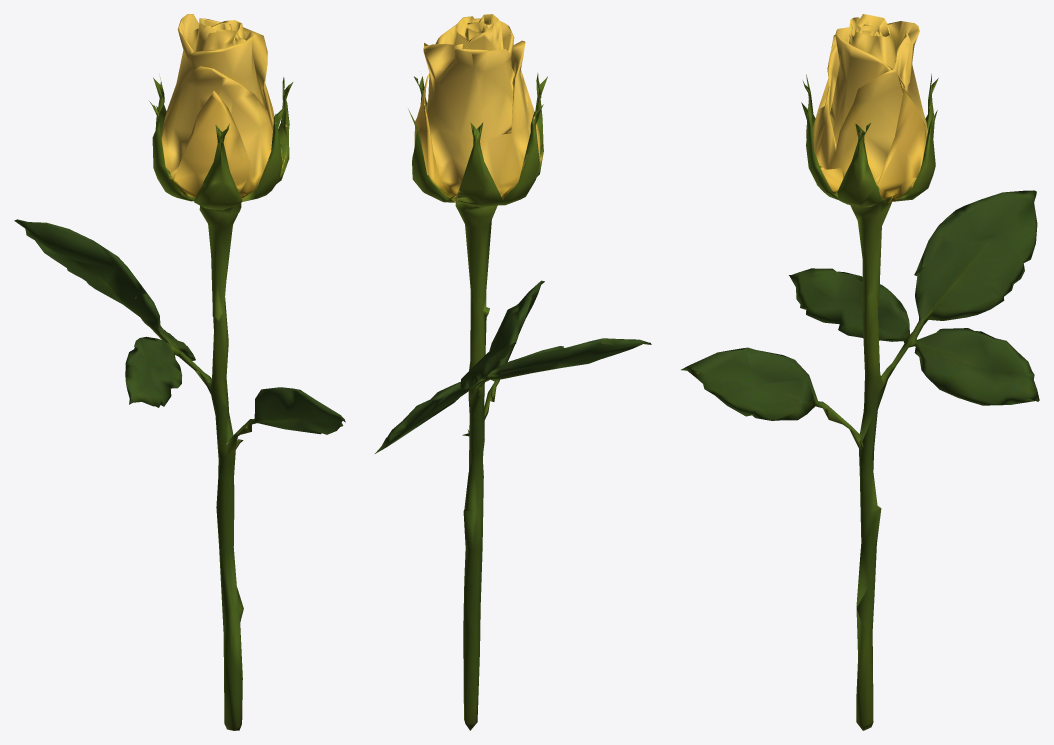
The model's file is YellowRose.glb.
3 views of the same model, side by side, from view 1: azimuth 30°, elevation 25°; view 2: azimuth 150°, elevation 25°; view 3: azimuth 270°, elevation 25° (orthographic).
Parts seen in each view (by area): view 1: tripo_node_4ea5bd41-6db2-41bf-bce9-83857ccb6344; view 2: tripo_node_4ea5bd41-6db2-41bf-bce9-83857ccb6344; view 3: tripo_node_4ea5bd41-6db2-41bf-bce9-83857ccb6344.
Boxes of the visible parts, box(x1,y1,x2,y2) form: tripo_node_4ea5bd41-6db2-41bf-bce9-83857ccb6344: box(14, 14, 345, 730); tripo_node_4ea5bd41-6db2-41bf-bce9-83857ccb6344: box(375, 14, 651, 730); tripo_node_4ea5bd41-6db2-41bf-bce9-83857ccb6344: box(681, 14, 1039, 730).
Size of the model in its own units: 0.2912 by 0.9998 by 0.4628.
Materials: 1 (1 with a texture image).
